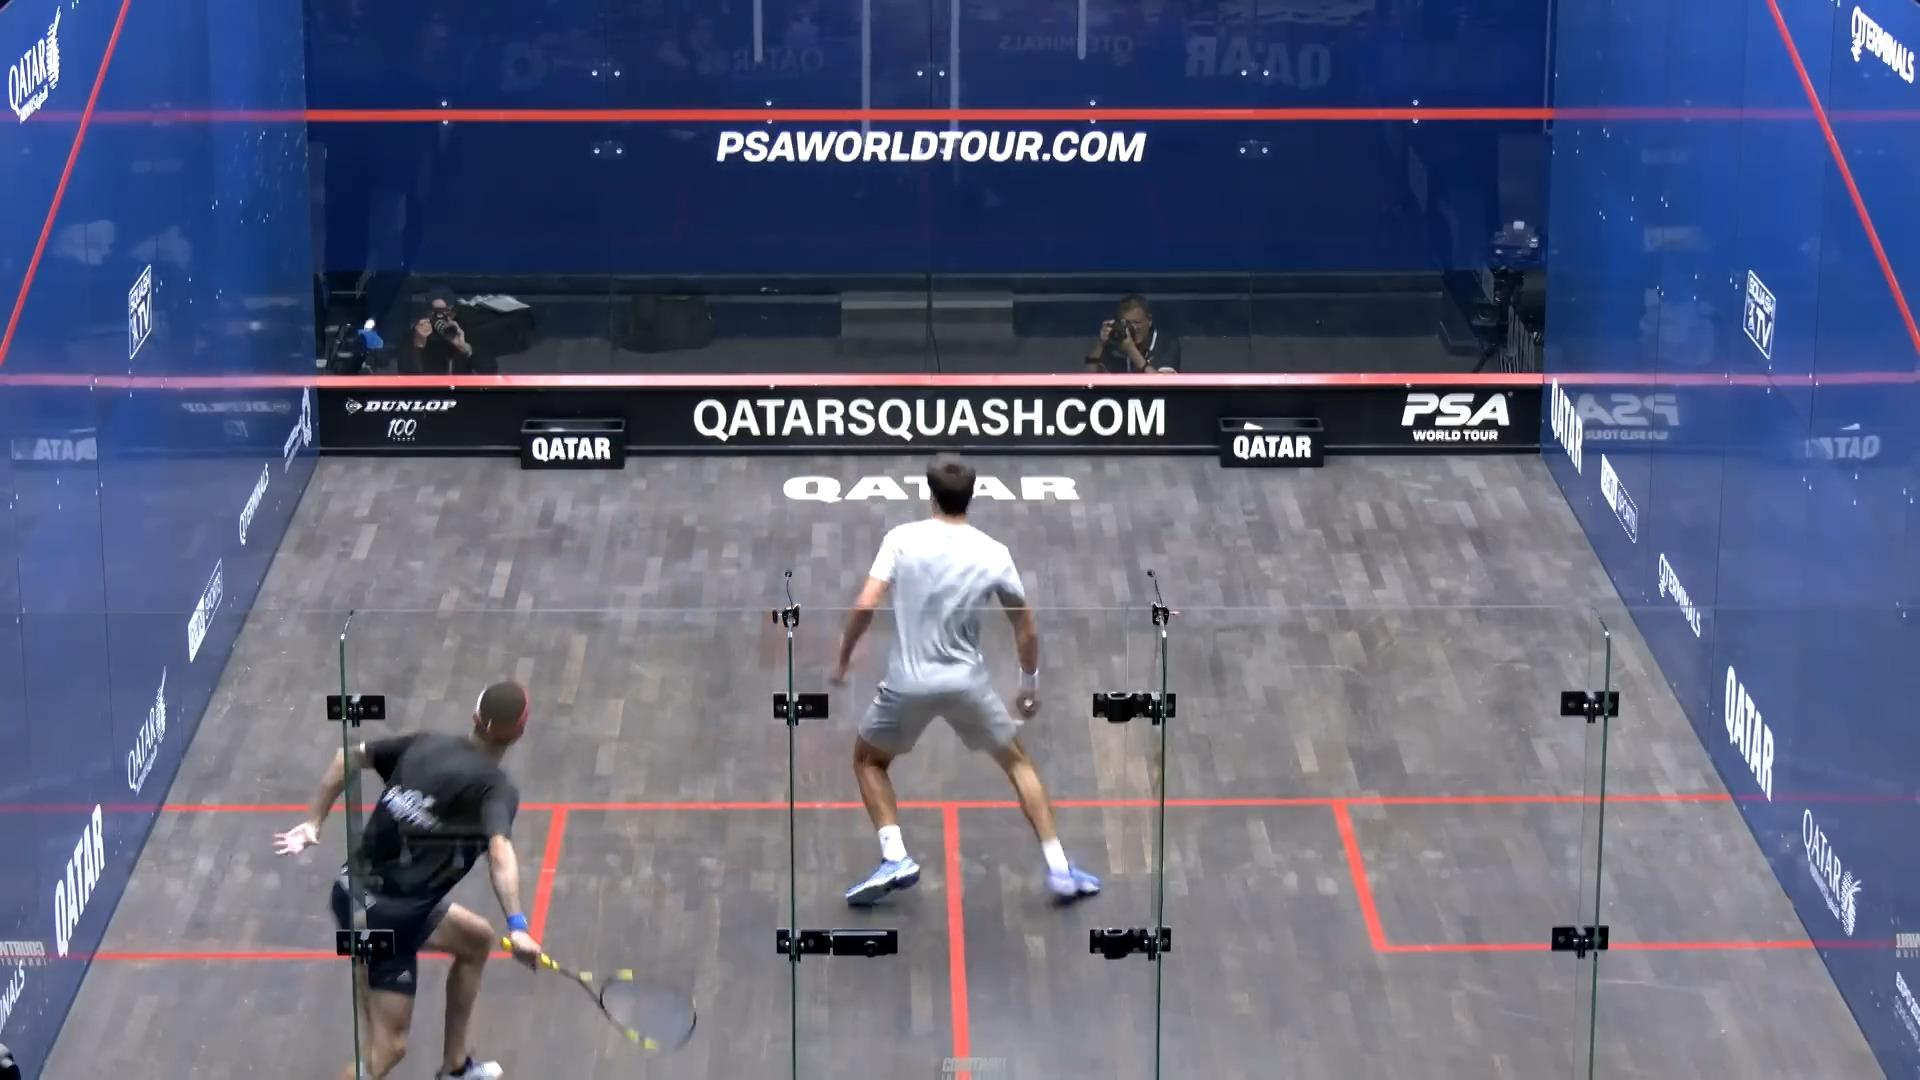Racket: (542, 932, 711, 1059)
